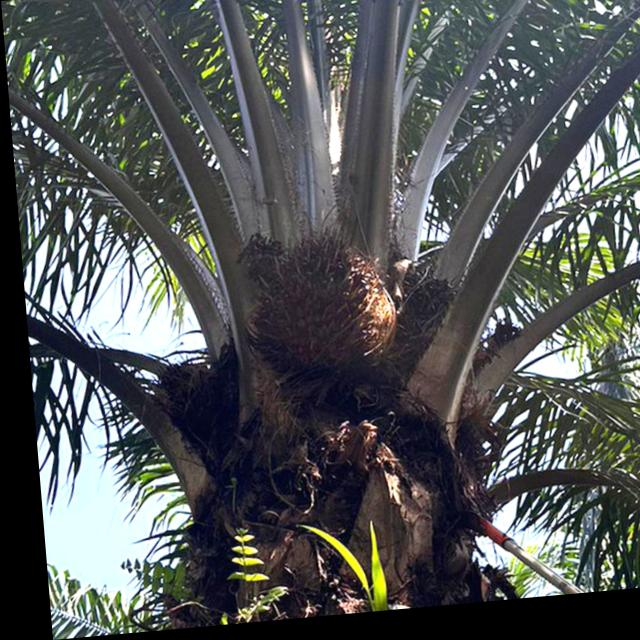ripe: (224, 210, 408, 392)
